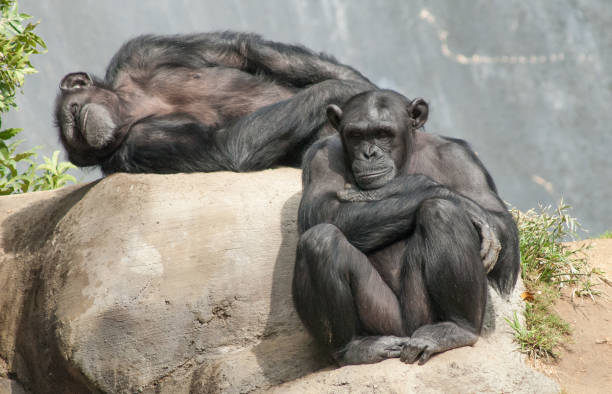chimpanzee: (325, 79, 429, 194), (26, 63, 131, 162)
